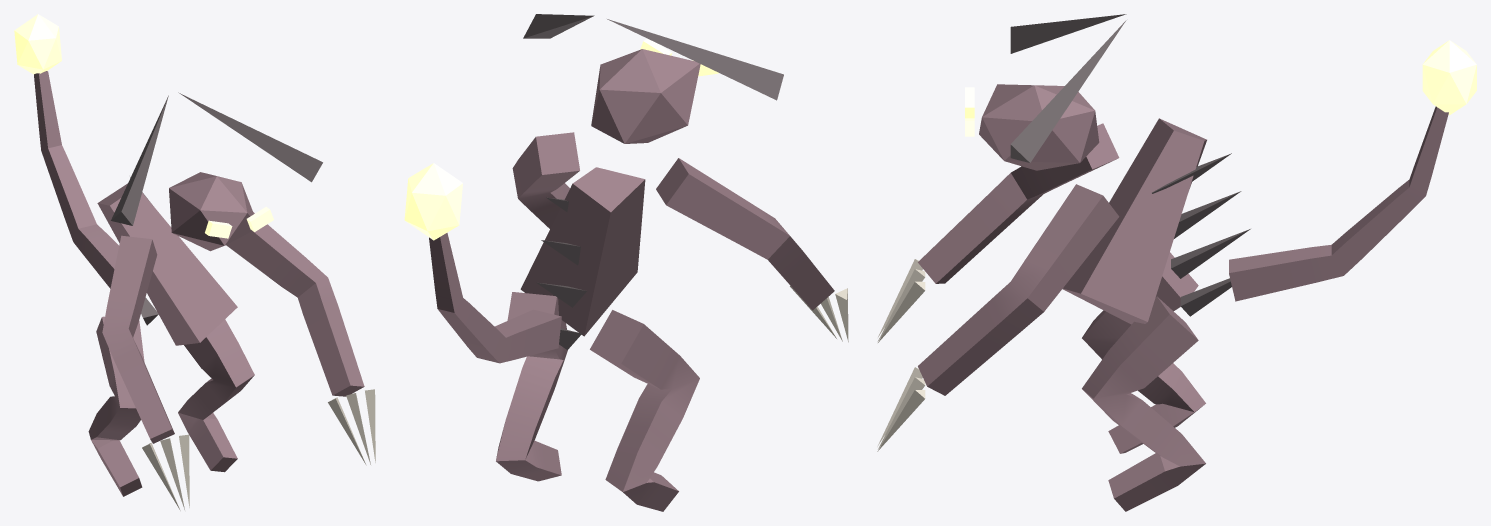
File: EN_Ember_AshImp_C.fbx
3 renders of one model, left to right at view 1: azimuth 30°, elevation 25°; view 2: azimuth 150°, elevation 25°; view 3: azimuth 270°, elevation 25°, orthographic. The views are drawn at different scales.
Parts seen in each view (by area): view 1: EN_Ember_AshImp_C; view 2: EN_Ember_AshImp_C; view 3: EN_Ember_AshImp_C.
Part boxes in pixels (box(x1,y1,x2,y2)): EN_Ember_AshImp_C: box(14, 14, 375, 510); EN_Ember_AshImp_C: box(404, 14, 848, 511); EN_Ember_AshImp_C: box(877, 14, 1476, 511).
Bounding box in the file's own units: 1 × 1.61 × 1.88.
